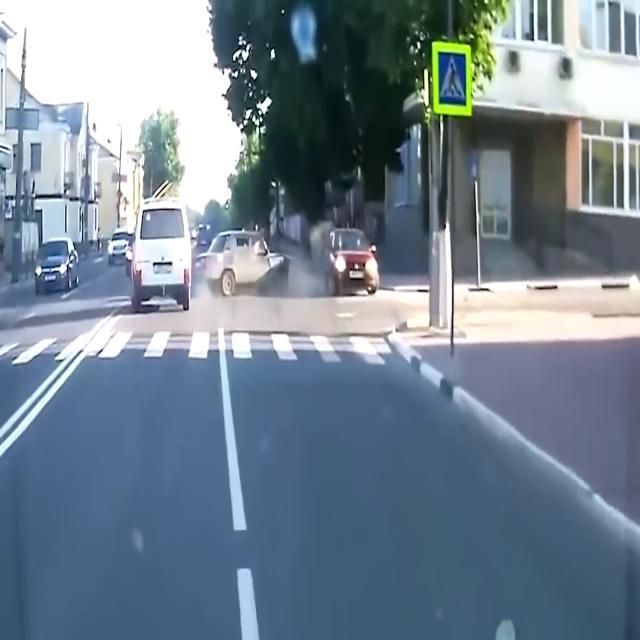multiple_accident: (180, 118, 402, 318)
normal: (102, 175, 218, 330), (13, 205, 83, 323)
